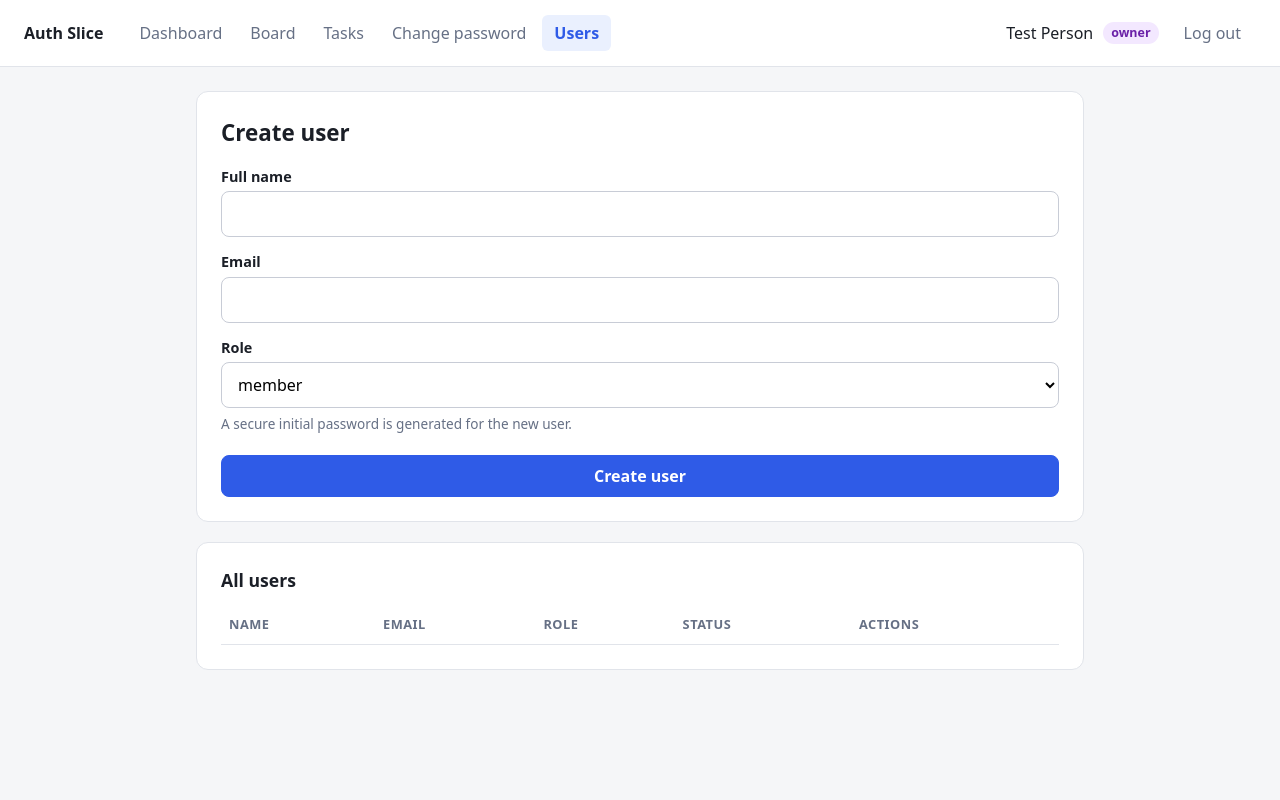
create user › shows the server error for a duplicate email and no password panel
Type "Dup Person" into the field labelled "Full name". click: (640, 214)
box: [221,191,1059,237]
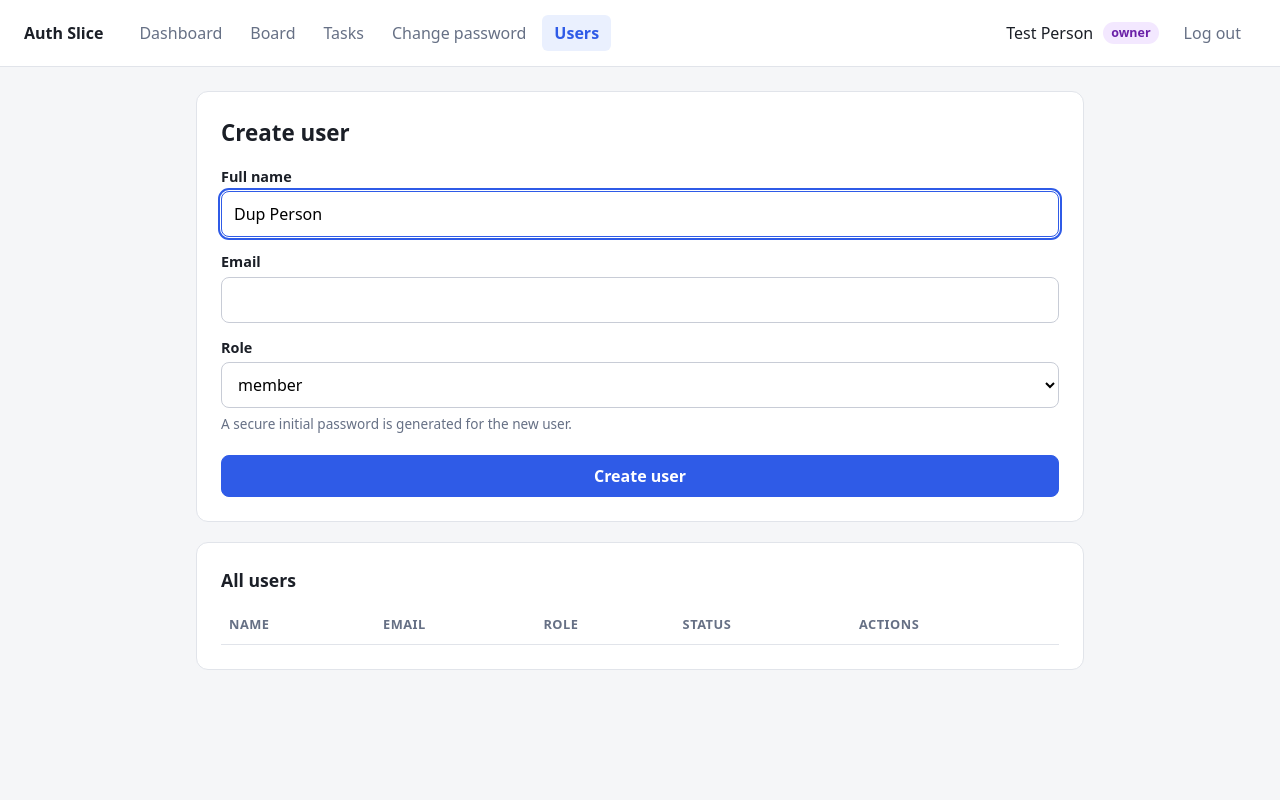
Type "dup@example.com" into the field labelled "Email". click: (640, 300)
box: [221,277,1059,323]
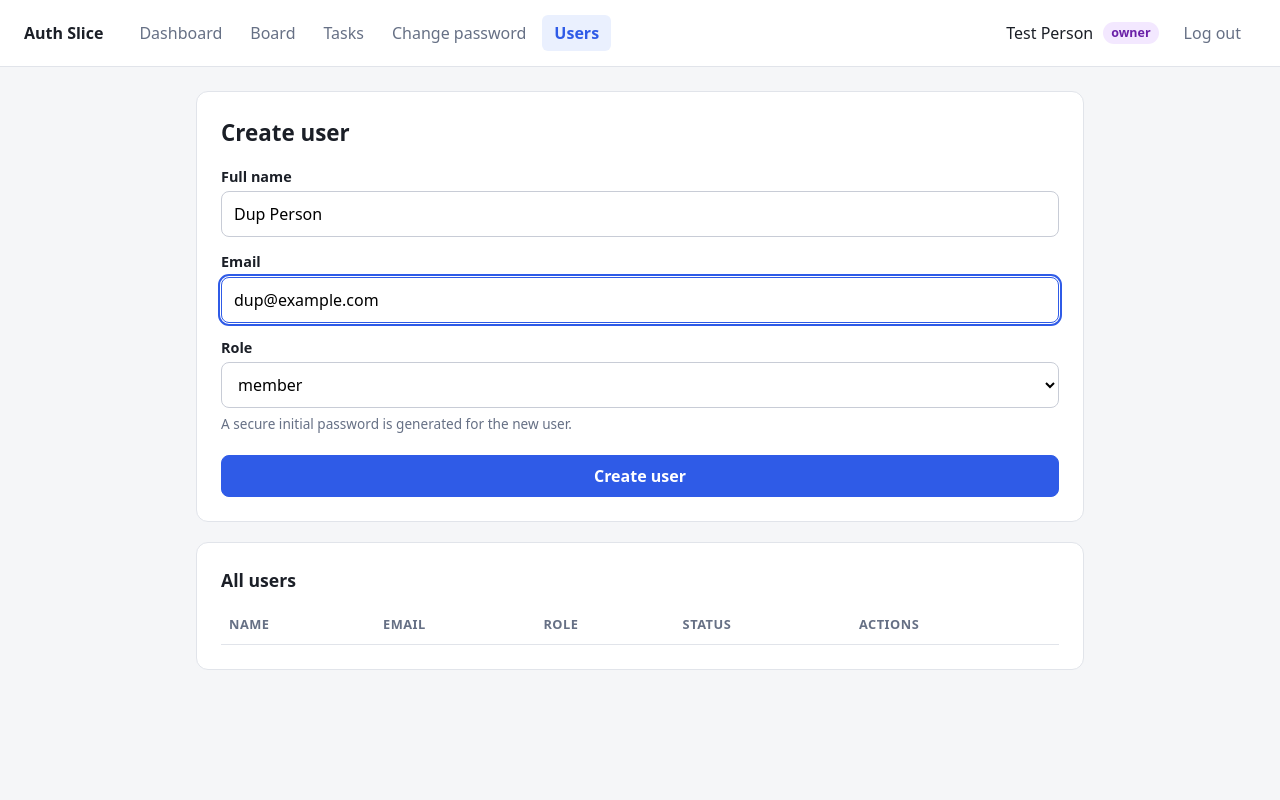
Click the button "Create user". click: (640, 476)
box: [221,455,1059,497]
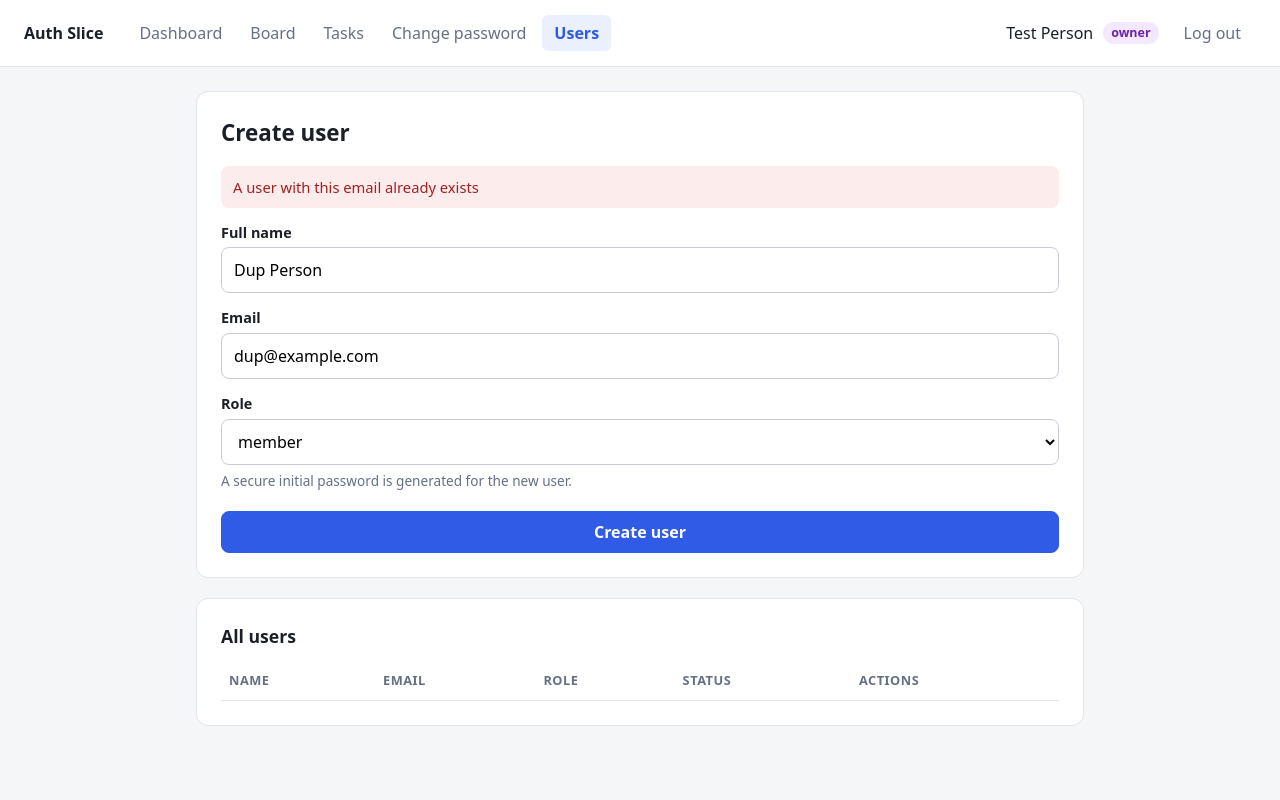
Check: the message shows "already exists", box [233,177,479,197]
